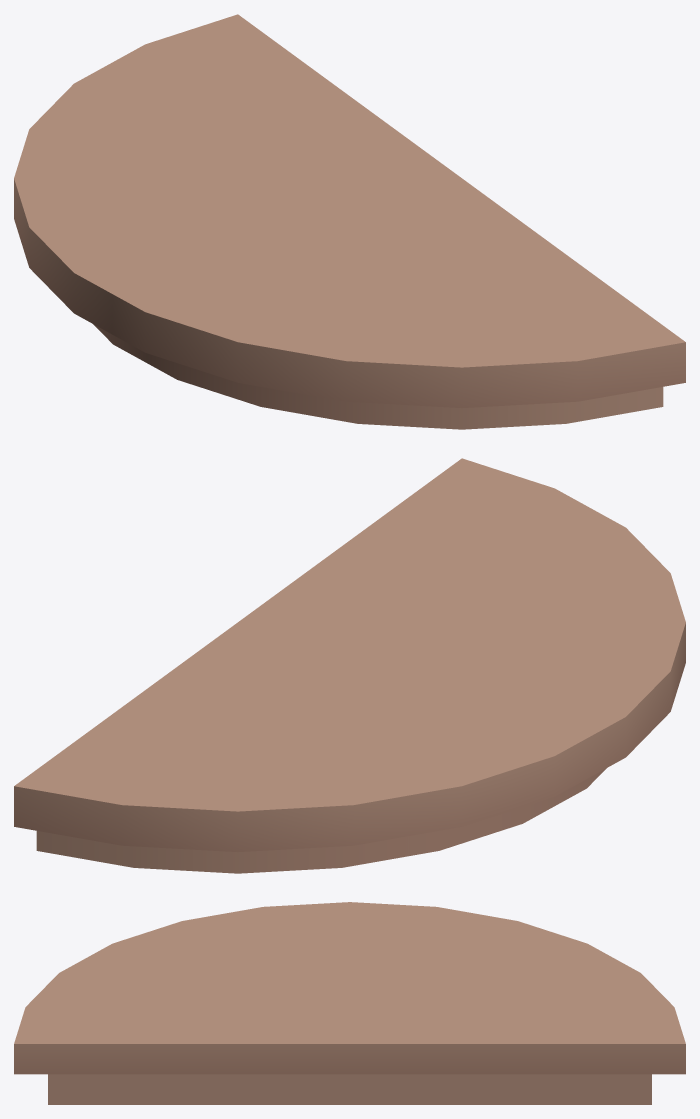
Rendered from surfaces-half-surface-round-edge.glb.
3 views of the same model, one above another, from view 1: azimuth 30°, elevation 25°; view 2: azimuth 150°, elevation 25°; view 3: azimuth 270°, elevation 25° (orthographic). The views are drawn at different scales.
Parts seen in each view (by area): view 1: surfaces-half-surface-round-edge; view 2: surfaces-half-surface-round-edge; view 3: surfaces-half-surface-round-edge.
Boxes of the visible parts, x1,y1,x2,y2 form: surfaces-half-surface-round-edge: [14, 14, 685, 429]; surfaces-half-surface-round-edge: [14, 458, 685, 873]; surfaces-half-surface-round-edge: [14, 902, 685, 1104].
Bounding box in the file's own units: 0.5 × 0.1 × 1.
